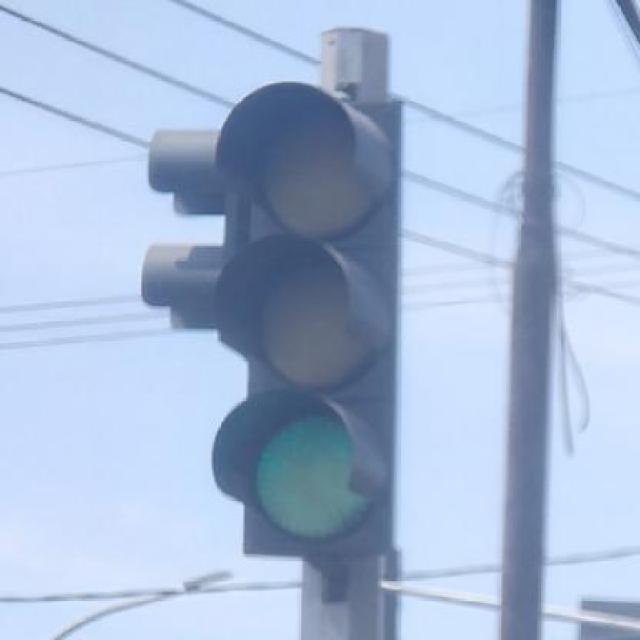green light: (203, 73, 415, 570)
